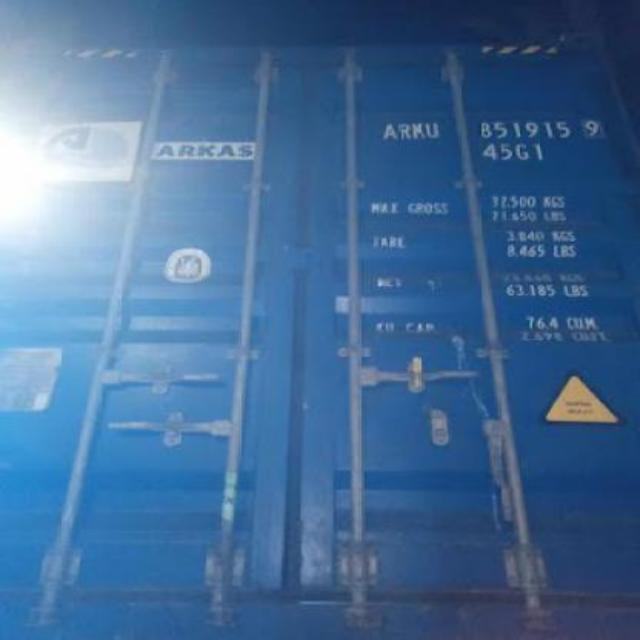1: (510, 118, 526, 142), (542, 120, 558, 140)
5: (492, 118, 512, 140), (556, 117, 574, 141)
8: (478, 118, 494, 140)
9: (582, 116, 602, 140), (524, 118, 540, 142)
A: (382, 121, 398, 141)
K: (410, 118, 426, 142)
R: (398, 121, 412, 141)
U: (424, 118, 442, 142)
